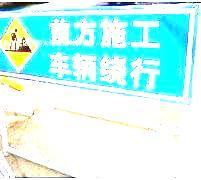sign: (1, 10, 193, 101)
